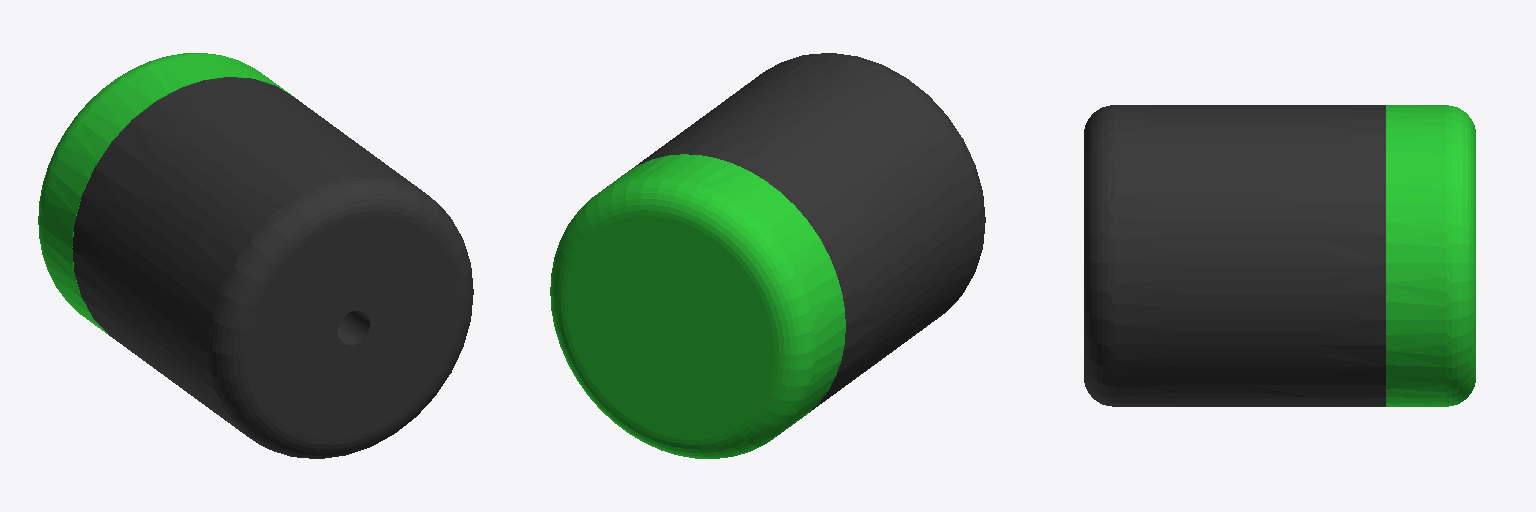
File: buzzer1.obj
The picture shows the model from 3 angles: view 1: azimuth 30°, elevation 25°; view 2: azimuth 150°, elevation 25°; view 3: azimuth 270°, elevation 25°; orthographic projection.
Bounding box in the file's own units: 10 × 10 × 13.